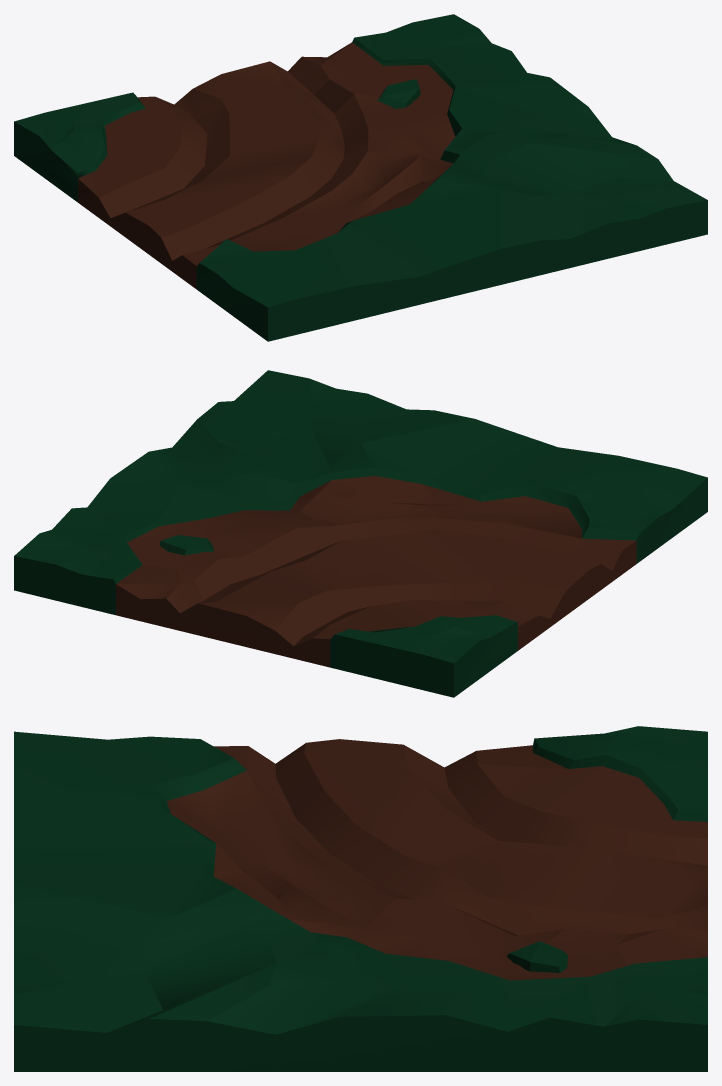
Rendered from Ground_Road_Turn_RB.fbx.
3 renders of one model, top to bottom at view 1: azimuth 30°, elevation 25°; view 2: azimuth 150°, elevation 25°; view 3: azimuth 270°, elevation 25°, orthographic. The views are drawn at different scales.
Parts seen in each view (by area): view 1: Ground_Road_Turn_RB; view 2: Ground_Road_Turn_RB; view 3: Ground_Road_Turn_RB.
Boxes of the visible parts, x1,y1,x2,y2 form: Ground_Road_Turn_RB: (14, 14, 707, 341); Ground_Road_Turn_RB: (14, 370, 707, 697); Ground_Road_Turn_RB: (14, 726, 707, 1071).
Size of the model in its own units: 147 by 13.54 by 147.
